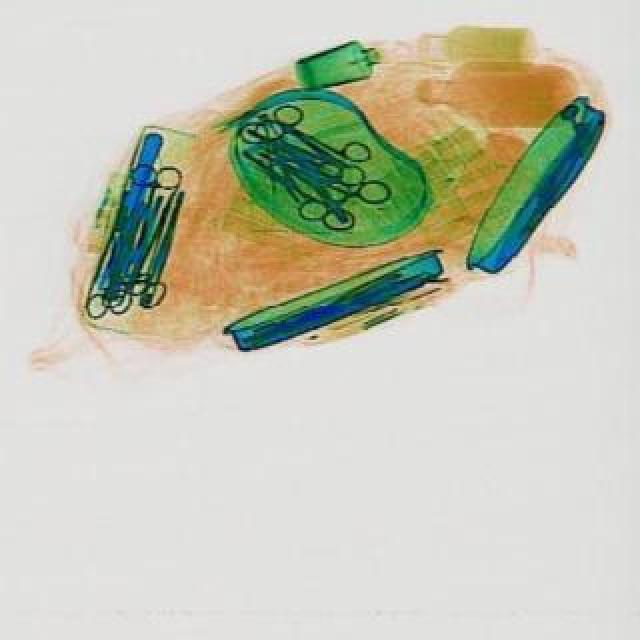pliers: (280, 112, 384, 192), (254, 98, 340, 172), (120, 164, 188, 252), (90, 242, 158, 314), (92, 254, 140, 324)
